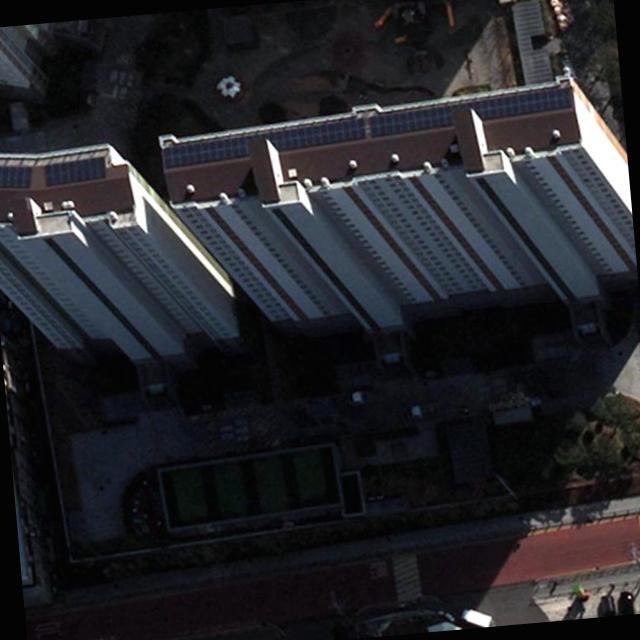solar: (366, 77, 578, 148), (158, 108, 370, 171), (42, 152, 110, 190), (0, 162, 38, 193)
